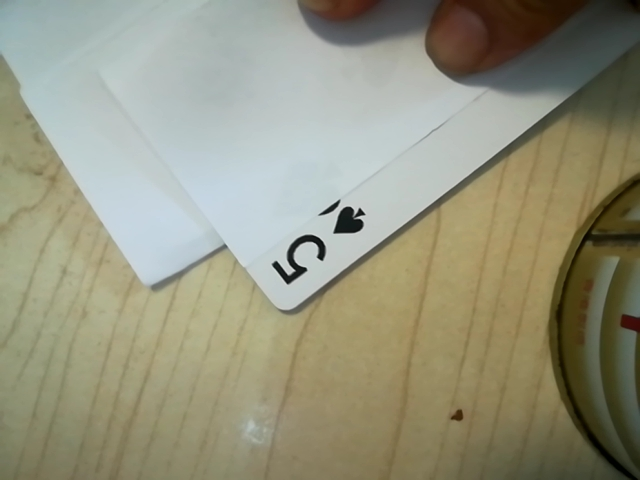ht 5: (263, 194, 380, 297)
